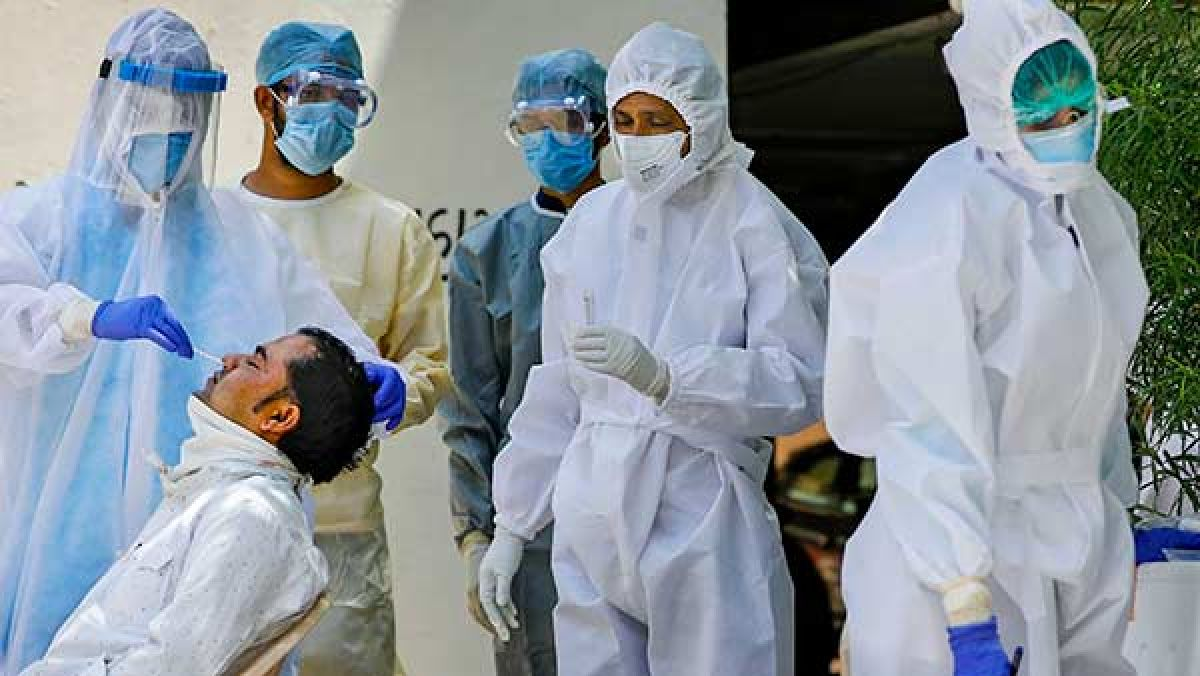Coverall: (502, 17, 826, 676), (830, 4, 1146, 664)
Face_Shield: (79, 50, 236, 216)
Gloves: (568, 322, 676, 408), (87, 285, 198, 361), (477, 520, 530, 649), (1116, 507, 1200, 574), (943, 604, 1020, 676), (361, 357, 410, 438)
Goggles: (286, 56, 384, 132), (499, 96, 590, 148)
with_mask: (604, 92, 688, 195), (122, 95, 200, 204), (274, 84, 360, 181), (517, 99, 599, 198), (1022, 94, 1101, 182)
